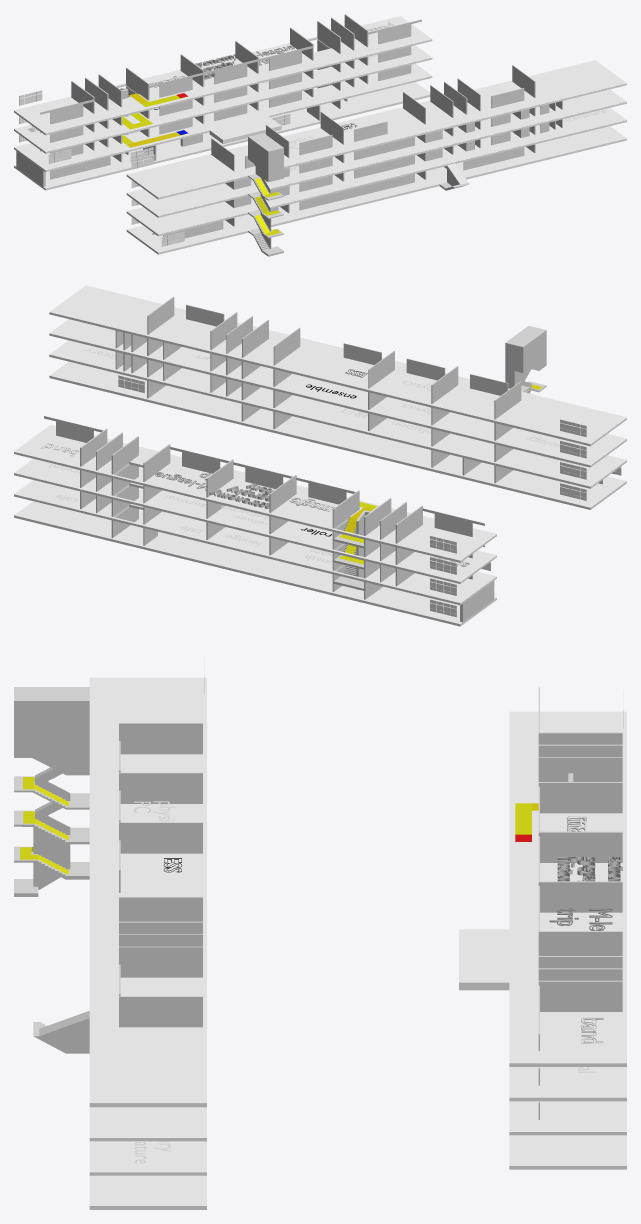
Rendered from frommagictomath.glb.
3 views of the same model, one above another, from view 1: azimuth 30°, elevation 25°; view 2: azimuth 150°, elevation 25°; view 3: azimuth 270°, elevation 25° (orthographic). The views are drawn at different scales.
Parts seen in each view (by area): view 1: floor S 4F, floor 4F, floor S 3F, floor S 2F, floor S 1F, floor 3F, floor 2F, floor 1F, Str S 4F, wall HomeRoom~HomeRoom.002, ceiling Gate.001, wall 1C~1C (+33 smaller); view 2: floor S 4F, floor S 1F, floor S 2F, floor S 3F, floor 4F, floor 1F, floor 2F, floor 3F, Str S 4F, 天文 地歴, wall Civics~Civics, wall 1D~1D (+26 smaller); view 3: floor S 4F, floor 4F, Str S 4F, floor 1F, floor S 3F, floor S 1F, floor 2F, floor 3F, floor S 2F, ceiling Gate.001, wall 1A~Out.001, wall 1D~1C.001 (+21 smaller).
Part boxes in pixels (x1,y1,x2,y2): floor S 4F: (126, 60, 626, 199); floor 4F: (14, 16, 432, 135); floor S 3F: (126, 89, 626, 217); floor S 2F: (126, 108, 626, 236); floor S 1F: (126, 126, 626, 254); floor 3F: (14, 45, 432, 153); floor 2F: (14, 63, 432, 172); floor 1F: (14, 82, 430, 190); Str S 4F: (248, 133, 283, 200); wall HomeRoom~HomeRoom.002: (299, 174, 414, 210); ceiling Gate.001: (209, 116, 281, 143); wall 1C~1C: (204, 59, 257, 84); floor S 4F: (49, 285, 626, 446); floor S 1F: (49, 361, 626, 509); floor S 2F: (49, 340, 626, 488); floor S 3F: (49, 319, 626, 467); floor 4F: (14, 425, 496, 562); floor 1F: (14, 501, 496, 626); floor 2F: (14, 480, 496, 605); floor 3F: (14, 459, 496, 583); Str S 4F: (505, 326, 546, 392); 天文 地歴: (209, 483, 274, 508); wall Civics~Civics: (422, 508, 484, 536); wall 1D~1D: (296, 477, 355, 504); floor S 4F: (89, 677, 206, 1107); floor 4F: (509, 711, 626, 1066); Str S 4F: (14, 687, 89, 792); floor 1F: (509, 1135, 626, 1169); floor S 3F: (89, 1107, 206, 1141); floor S 1F: (89, 1175, 206, 1209); floor 2F: (509, 1101, 626, 1135); floor 3F: (509, 1067, 626, 1101); floor S 2F: (89, 1141, 206, 1175); ceiling Gate.001: (459, 929, 509, 990); wall 1A~Out.001: (119, 996, 202, 1027); wall 1D~1C.001: (119, 822, 202, 853).
Size of the model in its own units: 90 by 21 by 54.75.
